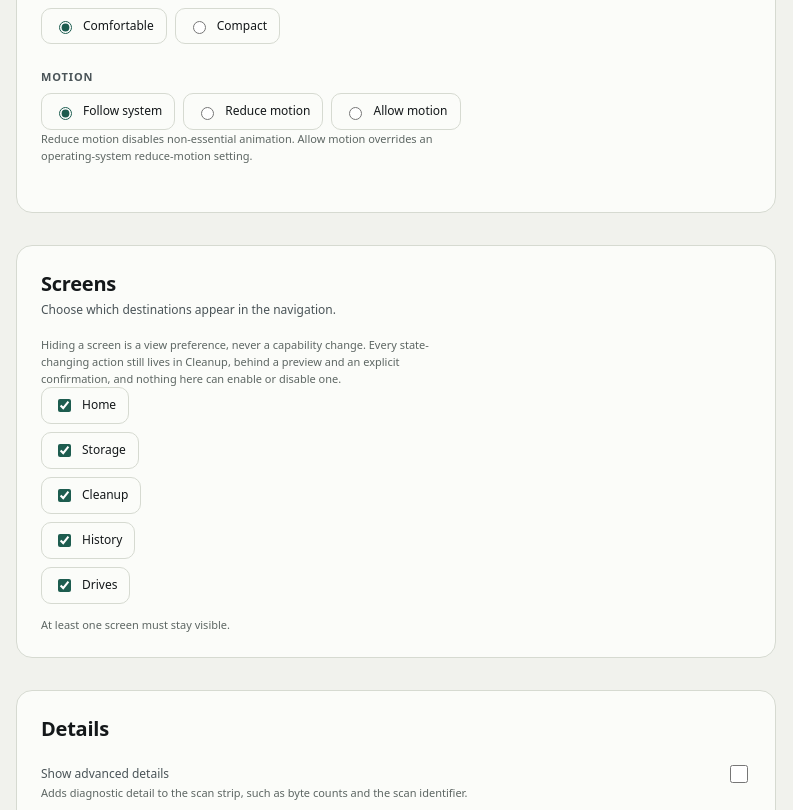
Test: Settings screen › never lets the last visible screen be hidden
(page scrolled)
What coordinates should you click on to do the following:
click the checkbox labelled "Home"
I would click on:
 (64, 405)
Its box is [58,399,71,412].
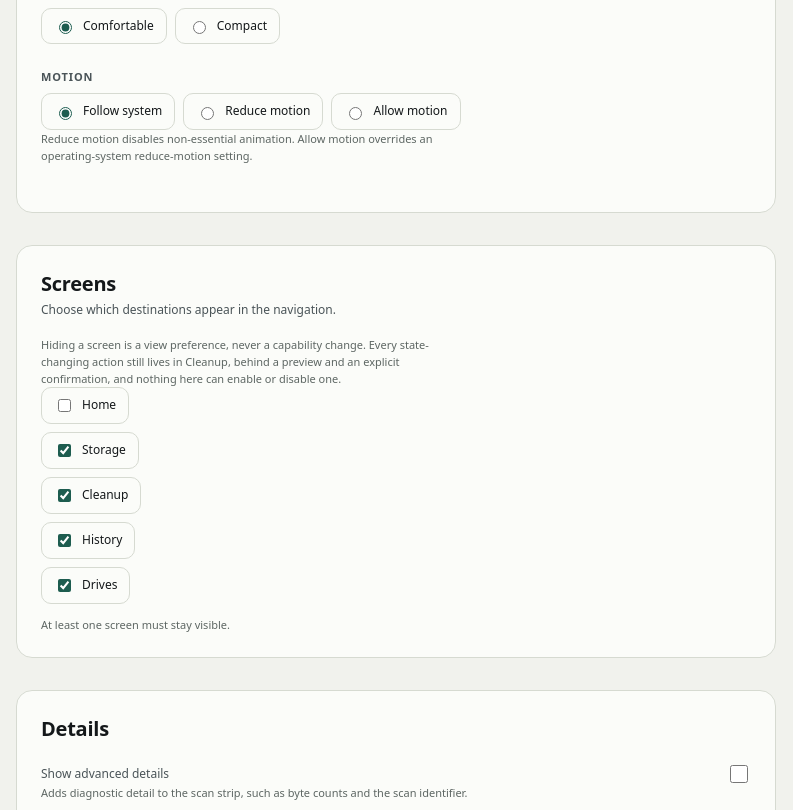
What coordinates should you click on to do the following:
click the checkbox labelled "Storage"
I would click on:
 (64, 450)
Its box is [58,444,71,457].
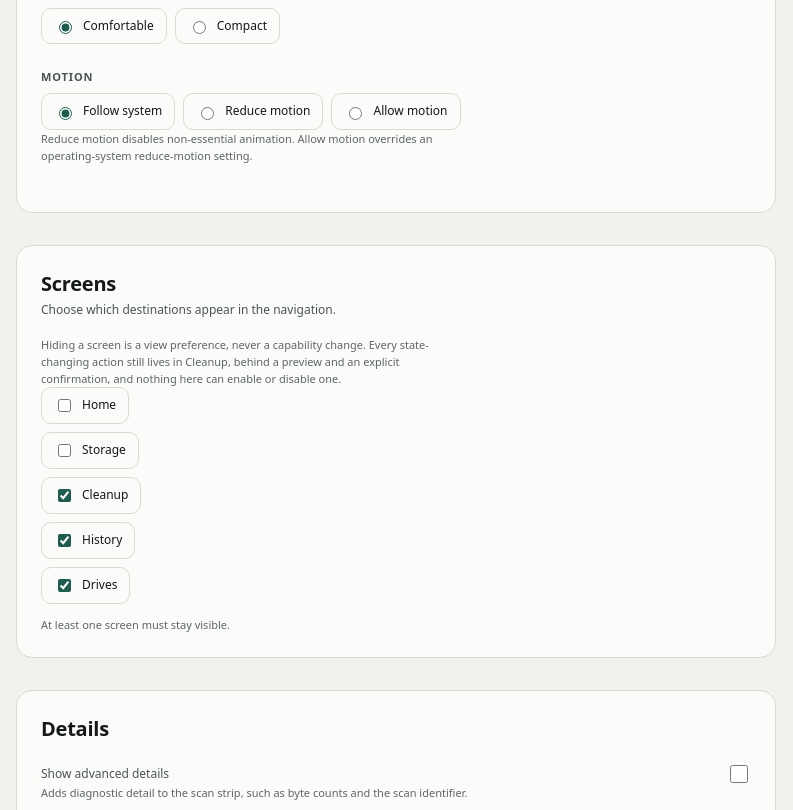
What coordinates should you click on to do the following:
click the checkbox labelled "Cleanup"
I would click on:
 (64, 495)
Its box is [58,489,71,502].
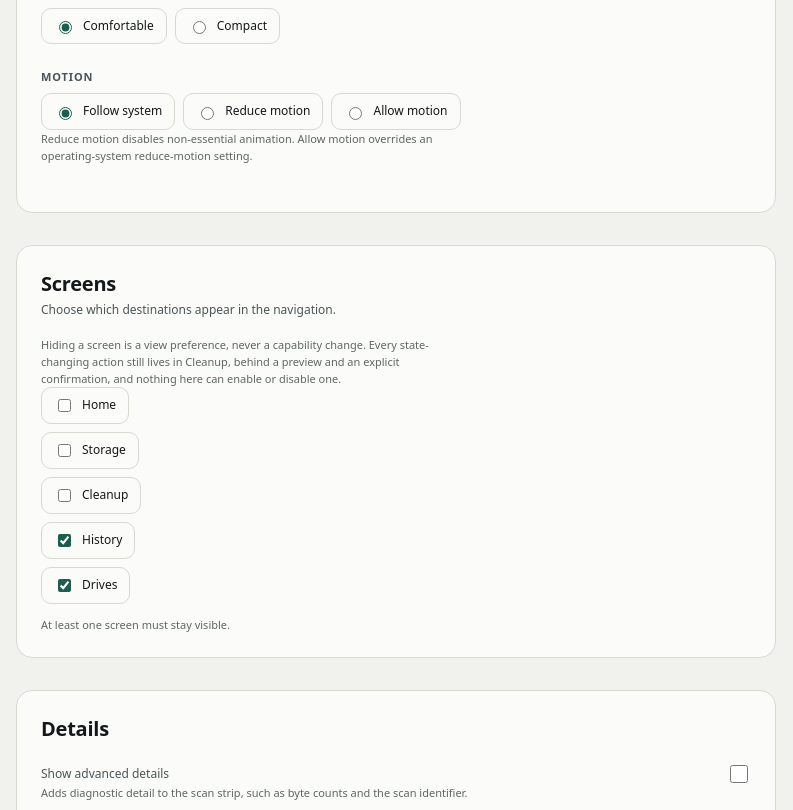
What coordinates should you click on to do the following:
click the checkbox labelled "History"
I would click on:
 (64, 540)
Its box is [58,534,71,547].
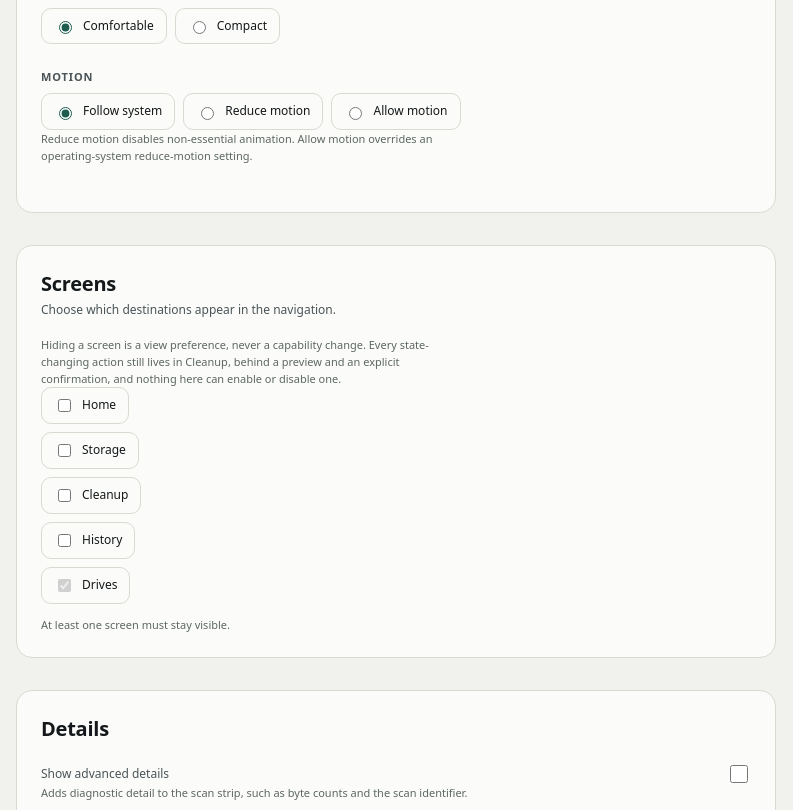
Expected: the checkbox labelled "Drives" is checked, [58,579,71,592]
Now the checkbox labelled "Drives" is disabled, box [58,579,71,592]
